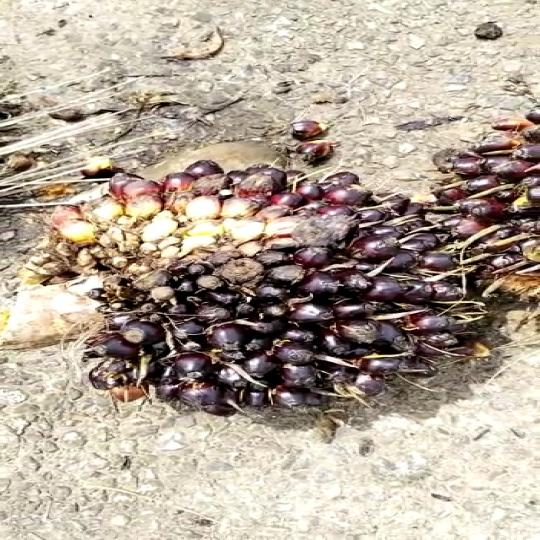mentah: (50, 147, 530, 428)
